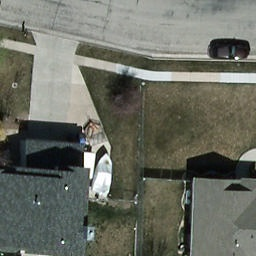boat: (89, 150, 115, 200)
car: (206, 41, 252, 60)
